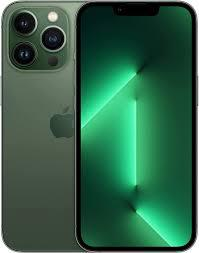Smartphone: (80, 5, 192, 249), (6, 4, 79, 252)
